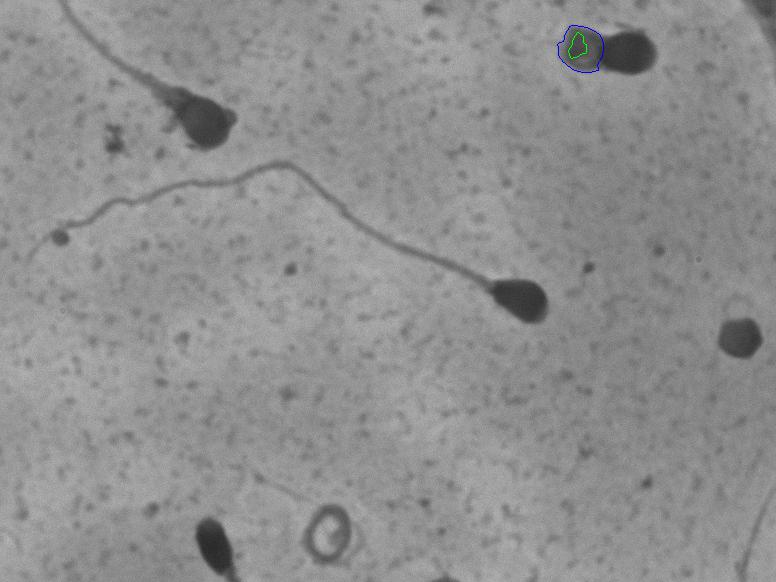Abnormal: (15, 141, 567, 341)
